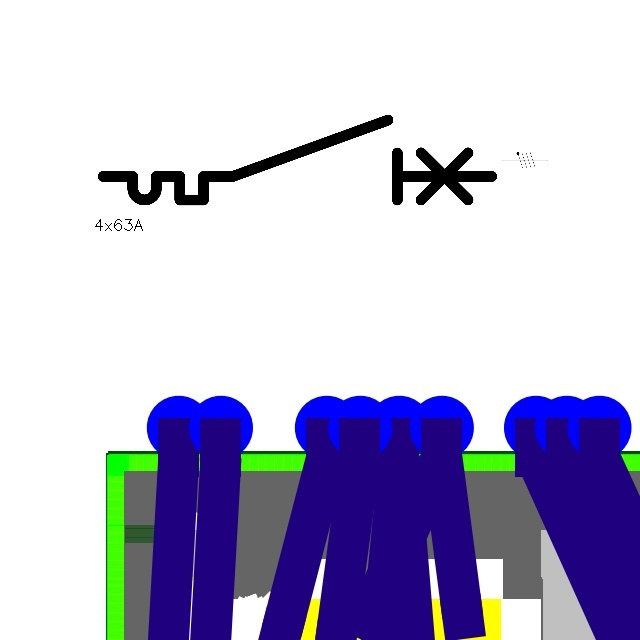interruptor_termomagnetico: (93, 110, 501, 210)
